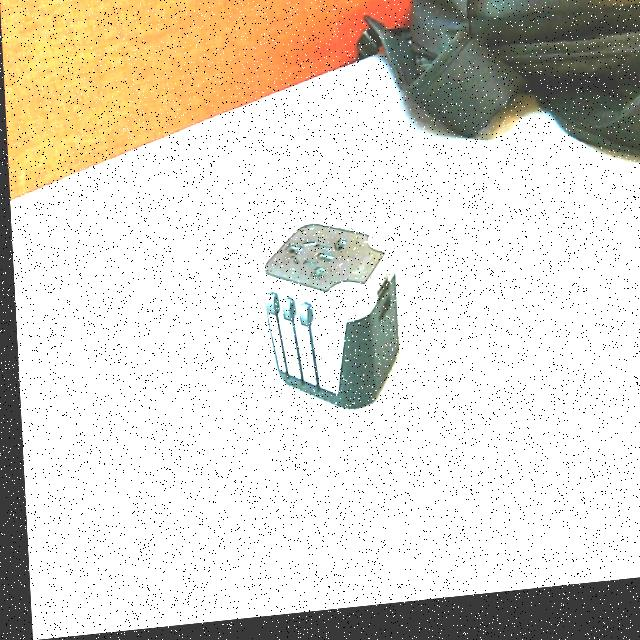adapter: (253, 219, 399, 423)
